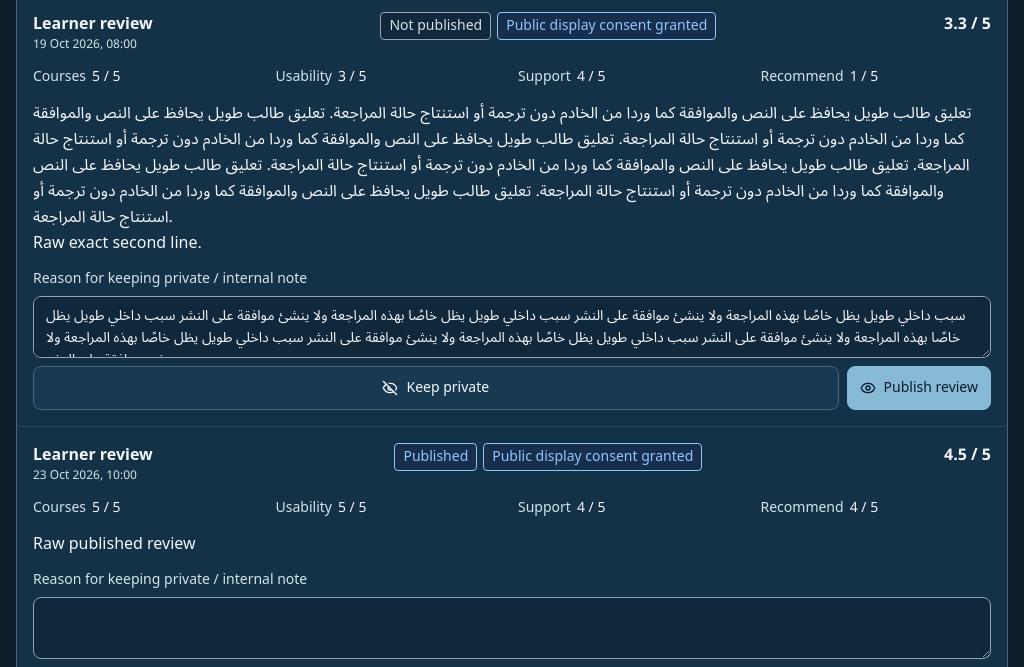
Test: Slice 4 moderation en — MOCKED UI-CONTRACT EVIDENCE › retains actual cached ratings and drafts after /admin/platform-ratings refresh failure
The image size is (1024, 667).
(page scrolled)
Replace the text in the text box labelled "Reason for keeping private / internal note" below "19 Oct 2026, 08:00" with "retained cached draft": {"x": 512, "y": 327} [33, 296, 991, 358]
(page scrolled)
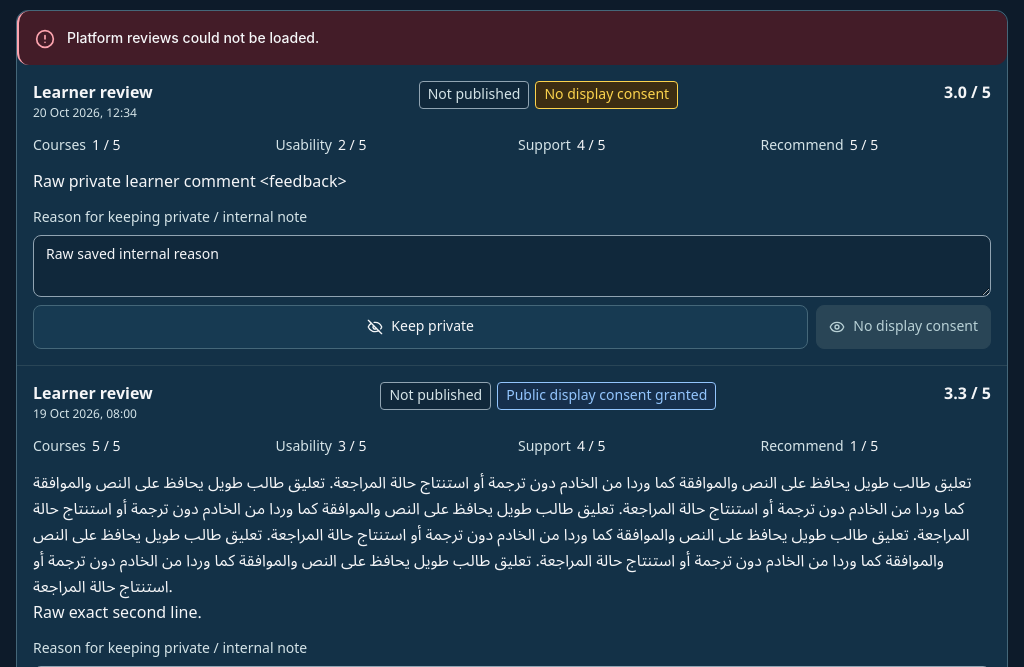
Check: the button "No display consent" is disabled, box [816, 305, 991, 349]
Check: the message reads "Platform reviews could not be loaded.", box [67, 29, 319, 46]
